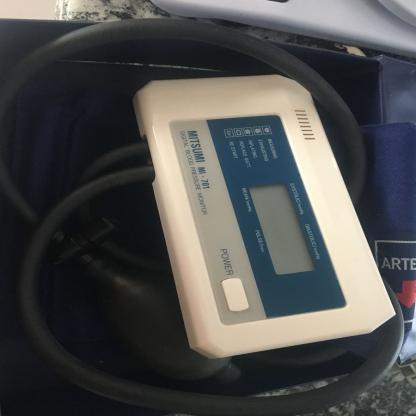Displays: (248, 183, 318, 276)
